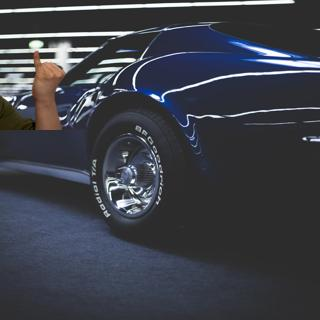FINE: (28, 48, 70, 105)
